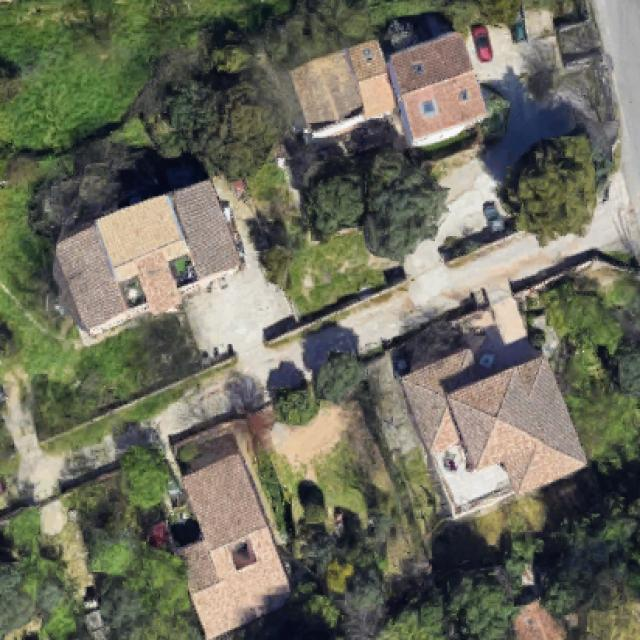maison: (397, 324, 588, 521), (49, 172, 250, 340), (145, 442, 298, 640), (379, 28, 489, 150), (284, 40, 397, 144)
